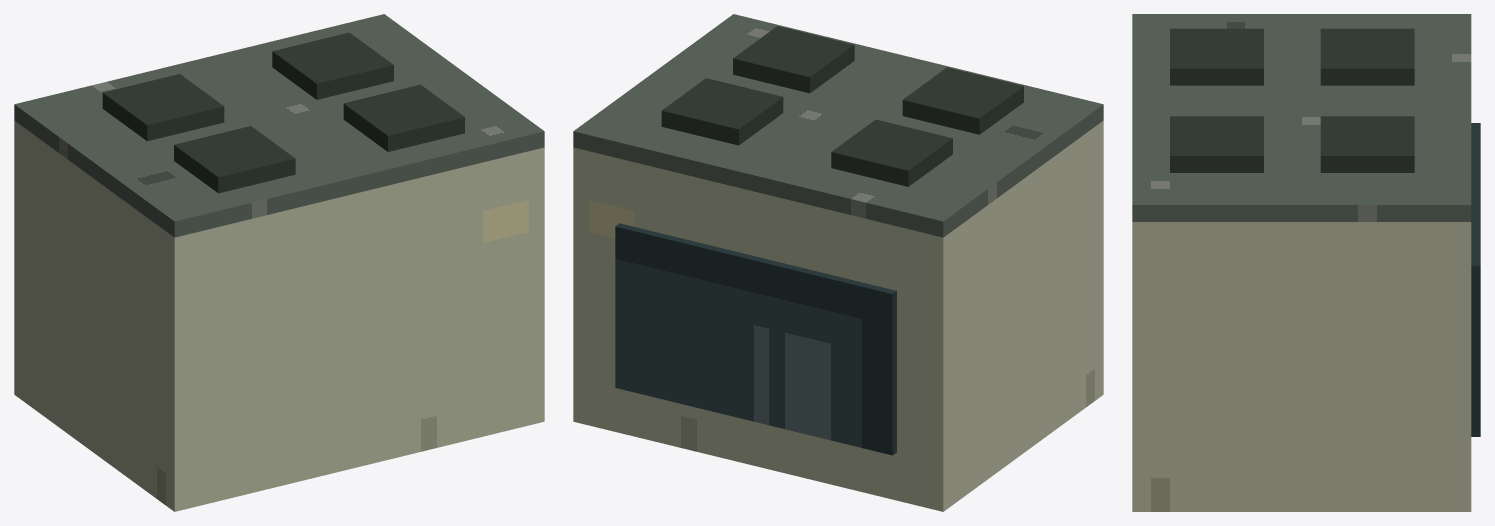
The model's file is stove.gltf.
The picture shows the model from 3 angles, left to right: view 1: azimuth 30°, elevation 25°; view 2: azimuth 150°, elevation 25°; view 3: azimuth 270°, elevation 25°; orthographic projection. The views are drawn at different scales.
Parts seen in each view (by area): view 1: oven, top, burner (×4); view 2: oven, oven_glass, top, burner (×4); view 3: oven, top, burner (×4), oven_glass.
Boxes of the visible parts, <box> form: oven: <box>14,120,544,511</box>; top: <box>14,14,544,237</box>; burner (×4): <box>102,32,464,193</box>; oven: <box>573,120,1103,511</box>; oven_glass: <box>615,223,896,455</box>; top: <box>573,14,1103,237</box>; burner (×4): <box>661,26,1023,186</box>; oven: <box>1132,222,1471,511</box>; top: <box>1132,14,1471,221</box>; burner (×4): <box>1170,28,1414,172</box>; oven_glass: <box>1471,123,1480,436</box>.
Bounding box in the file's own units: 1.5 × 1.19 × 1.16.
Materials: 4 (4 with a texture image).
